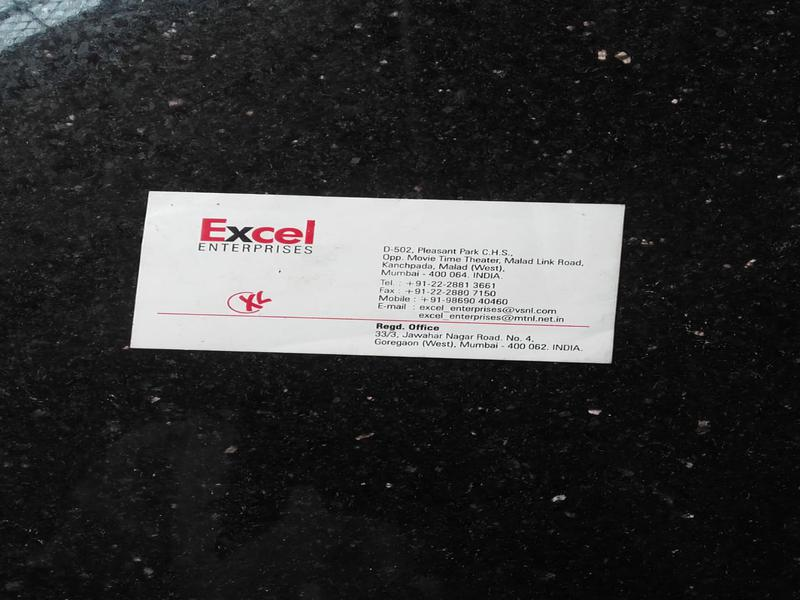card: (124, 182, 629, 371)
